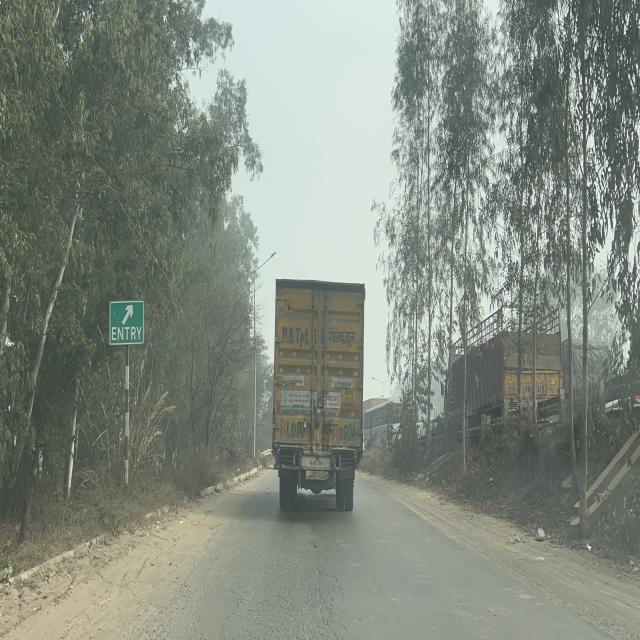GENERAL: (109, 301, 145, 346)
